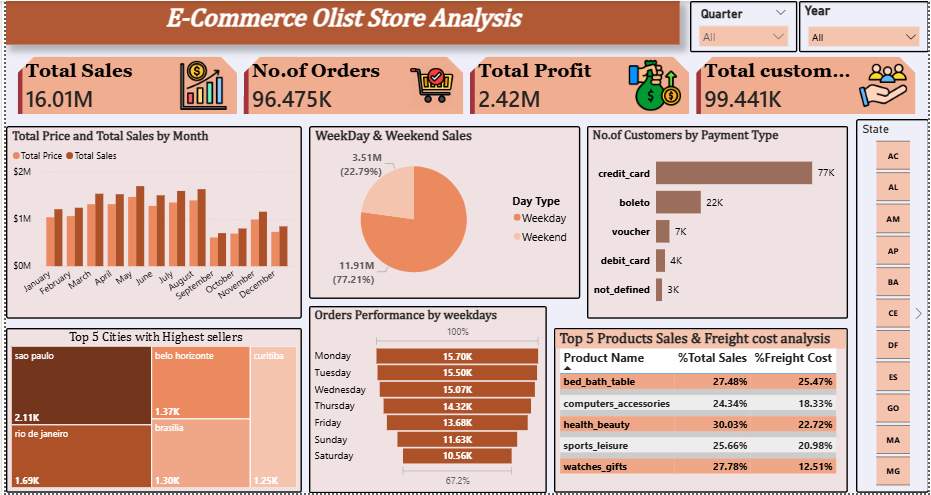

Layout of this report page (visuals, bound fields, positions):
{"tool":"powerbi","page":{"name":"Dashboard","canvas":[1350,720],"ordinal":1},"visuals":[{"type":"pieChart","title":"WeekDay & Weekend Sales ","fields":{"Category":["Olist Orders Table.Day Type"],"Y":["Sum(Payments Data.payment_value)"]},"box":[443.4,182.9,396.6,253.2],"z":0},{"type":"cardVisual","fields":{"Data":["Olist Orders Table.Total Payment value","CountNonNull(Olist Orders Table.order_id)","Olist Orders Table.Total Profit","Count(Customers Data.customer_id)"]},"box":[0,64.4,1350.7,118.5],"z":1000},{"type":"textbox","box":[0,0,986.3,64.4],"z":2000},{"type":"clusteredColumnChart","fields":{"Category":["Olist Orders Table.order_purchase_timestamp.Variation.Date Hierarchy.Year","Olist Orders Table.order_purchase_timestamp.Variation.Date Hierarchy.Quarter","Olist Orders Table.order_purchase_timestamp.Variation.Date Hierarchy.Month","Olist Orders Table.order_purchase_timestamp.Variation.Date Hierarchy.Day"],"Y":["Olist Orders Table.Total Price","Olist Orders Table.Total Payment value"]},"box":[0,182.9,433.2,282.4],"z":3000},{"type":"tableEx","title":"Top 5 Products Sales &  Freight cost analysis","fields":{"Values":["Products Data.Product Name","Olist Orders Table.Total Payment value","Sum(Order items Data.freight_value)"]},"box":[802,478.5,430.2,241.5],"z":4000},{"type":"treemap","title":"Top 5 Cities with Highest sellers","fields":{"Group":["Customers Data.customer_city"],"Values":["CountNonNull(Sellers Data.seller_id)"]},"box":[0,478.5,433.2,241.5],"z":5000},{"type":"slicer","title":"State","fields":{"Values":["Customers Data.customer_state"]},"box":[1243.9,172.7,106.8,547.3],"z":6000},{"type":"slicer","title":"Year","fields":{"Values":["Olist Orders Table.Year"]},"box":[1160.5,0,190.2,74.6],"z":7000},{"type":"barChart","title":"No.of Customers by Payment Type","fields":{"Category":["Payments Data.payment_type"],"Y":["CountNonNull(Customers Data.customer_id)"]},"box":[850.2,182.9,382,282.4],"z":8000},{"type":"funnel","title":"Orders Performance by weekdays","fields":{"Category":["Olist Orders Table.Weekday"],"Y":["CountNonNull(Olist Orders Table.order_id)"]},"box":[443.4,446.3,348.3,273.7],"z":9000},{"type":"slicer","fields":{"Values":["Olist Orders Table.order_purchase_timestamp.Variation.Date Hierarchy.Quarter"]},"box":[1001,0,156.6,74.6],"z":10000}]}

Visuals, with their boxes in screenshot pixels (x1, y1, x2, y2), scaled from the page's 1350x720 canvas onto the 931x495 screenshot:
"WeekDay & Weekend Sales " pieChart: crop(306, 126, 579, 300)
cardVisual - Olist Orders Table.Total Payment value x CountNonNull(Olist Orders Table.order_id): crop(0, 44, 930, 126)
textbox: crop(0, 0, 680, 44)
clusteredColumnChart - Olist Orders Table.order_purchase_timestamp.Variation.Date Hierarchy.Year x Olist Orders Table.order_purchase_timestamp.Variation.Date Hierarchy.Quarter: crop(0, 126, 299, 320)
"Top 5 Products Sales &  Freight cost analysis" tableEx: crop(553, 329, 850, 494)
"Top 5 Cities with Highest sellers" treemap: crop(0, 329, 299, 494)
"State" slicer: crop(858, 119, 930, 494)
"Year" slicer: crop(800, 0, 930, 51)
"No.of Customers by Payment Type" barChart: crop(586, 126, 850, 320)
"Orders Performance by weekdays" funnel: crop(306, 307, 546, 494)
slicer - Olist Orders Table.order_purchase_timestamp.Variation.Date Hierarchy.Quarter: crop(690, 0, 798, 51)
